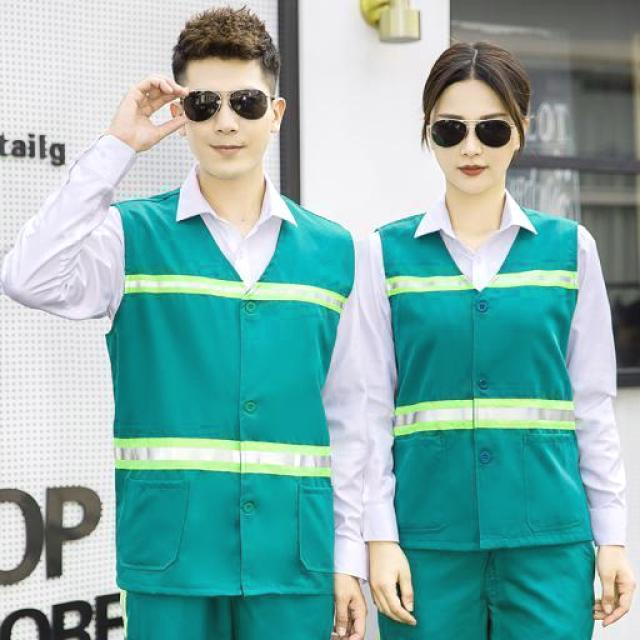face_nomask: (428, 110, 520, 184), (185, 86, 269, 166)
glasses: (178, 84, 272, 128), (428, 112, 518, 152)
hand_noglove: (104, 70, 194, 152), (362, 539, 423, 626), (589, 543, 637, 629), (320, 565, 375, 640)
head_nohelmet: (167, 4, 285, 75), (416, 37, 536, 104)
person: (1, 0, 372, 640), (354, 37, 631, 640)
vest: (100, 186, 356, 594), (374, 197, 608, 548)
